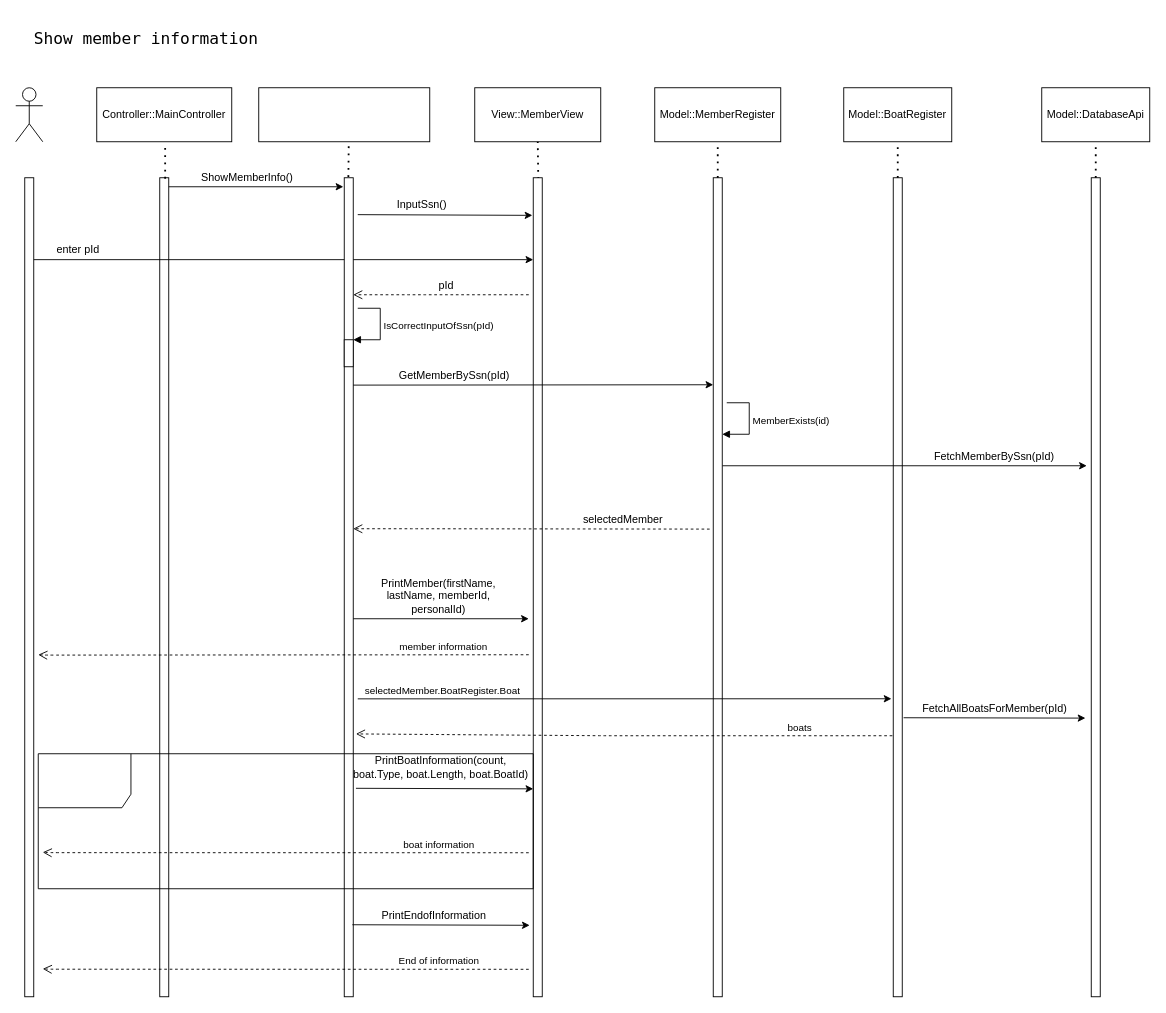
Some shapes in this 1166 by 1013 pixel diagram are drawn without their labels. The box of each missing label's shape, as (x1, y1, x2, y2) in pixels:
Actor: (15, 87, 43, 142)
Controller::MemberInputController: (258, 87, 430, 142)
Loop [ForEach Boat]: (37, 753, 533, 889)
